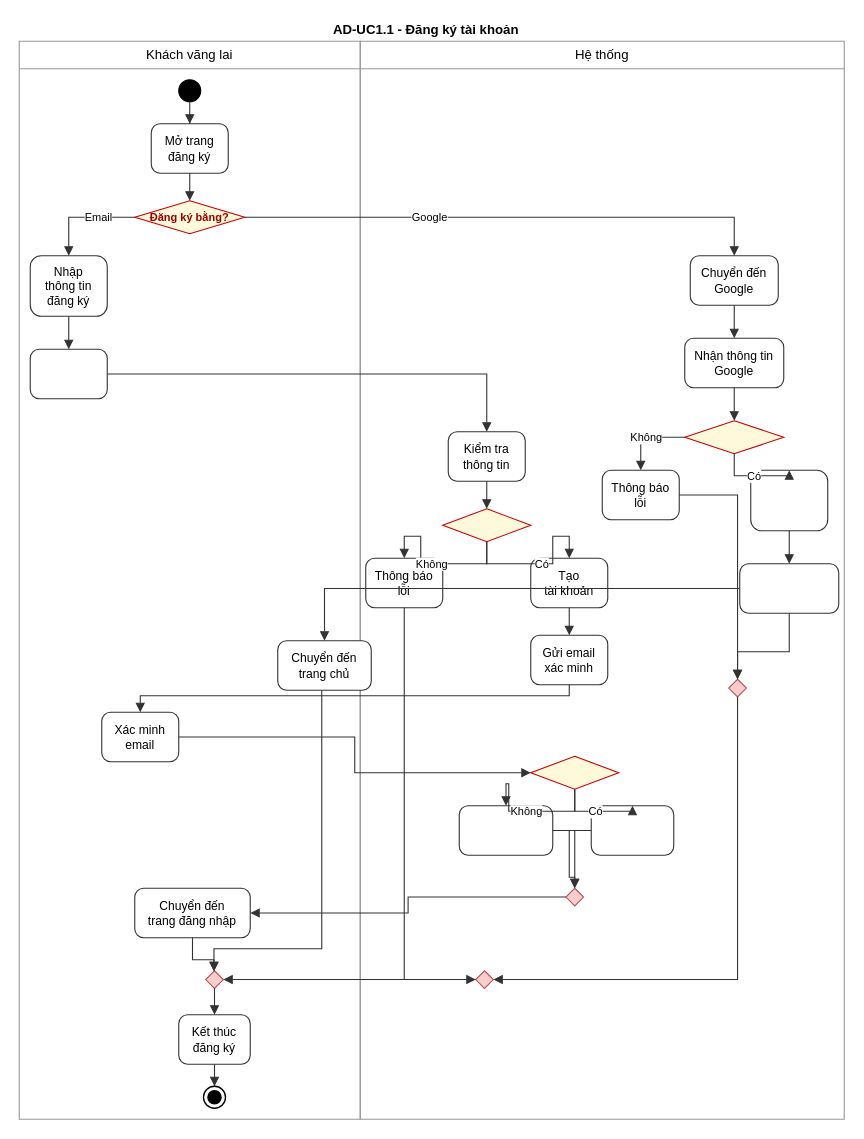
The diagram is 864 pixels wide and 1139 high, and some of its shapes have lost their labels. Each missing label, with the centre of its shape:
Hợp lệ?: point (486, 525)
Kích hoạt tài khoản: point (632, 830)
Nhấn "Đăng ký": point (68, 373)
Thành công?: point (734, 437)
Thông báo lỗi xác minh: point (505, 830)
Tạo hoặc cập nhật tài khoản: point (789, 500)
Xác minh?: point (574, 772)
Đăng nhập vào hệ thống: point (789, 588)
